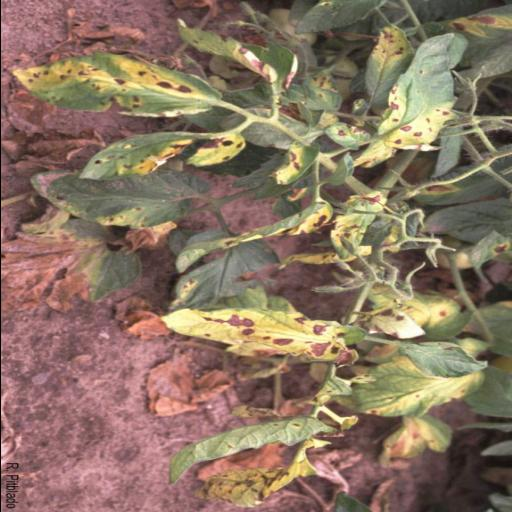Early Blight: (361, 32, 469, 168), (12, 52, 218, 118), (164, 308, 363, 372), (29, 169, 215, 229), (176, 16, 300, 98), (76, 130, 242, 182), (267, 140, 321, 186), (322, 120, 374, 151)
